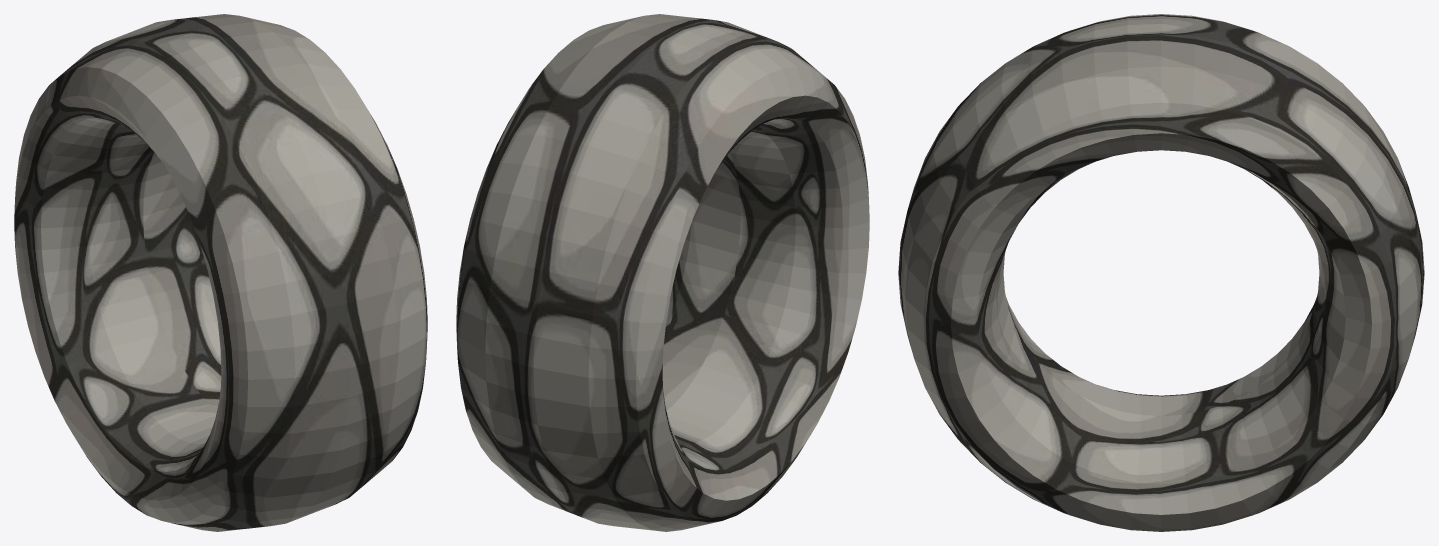
The model's file is Rock.fbx.
The picture shows the model from 3 angles, left to right: view 1: azimuth 30°, elevation 25°; view 2: azimuth 150°, elevation 25°; view 3: azimuth 270°, elevation 25°; orthographic projection.
Visible parts, largest first — view 1: Torus; view 2: Torus; view 3: Torus.
Boxes of the visible parts, <box> form: Torus: <box>14,14,427,531</box>; Torus: <box>456,14,869,531</box>; Torus: <box>898,14,1424,531</box>.
Size of the model in its own units: 115 by 250 by 250.
